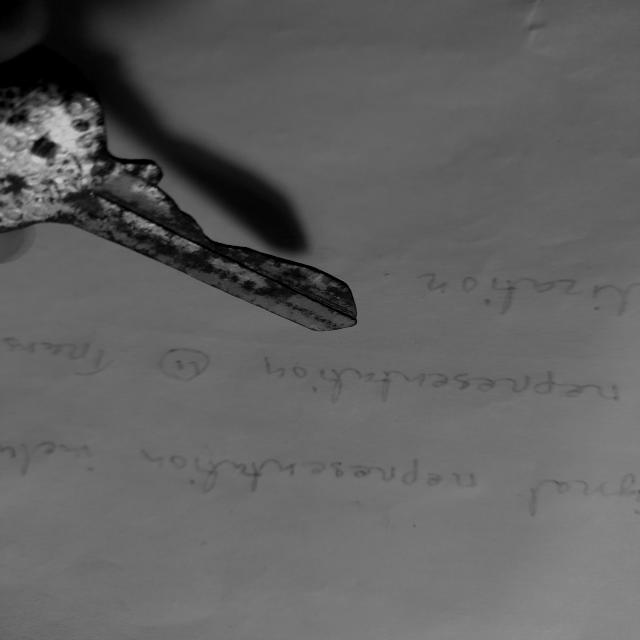key: (0, 47, 356, 331)
